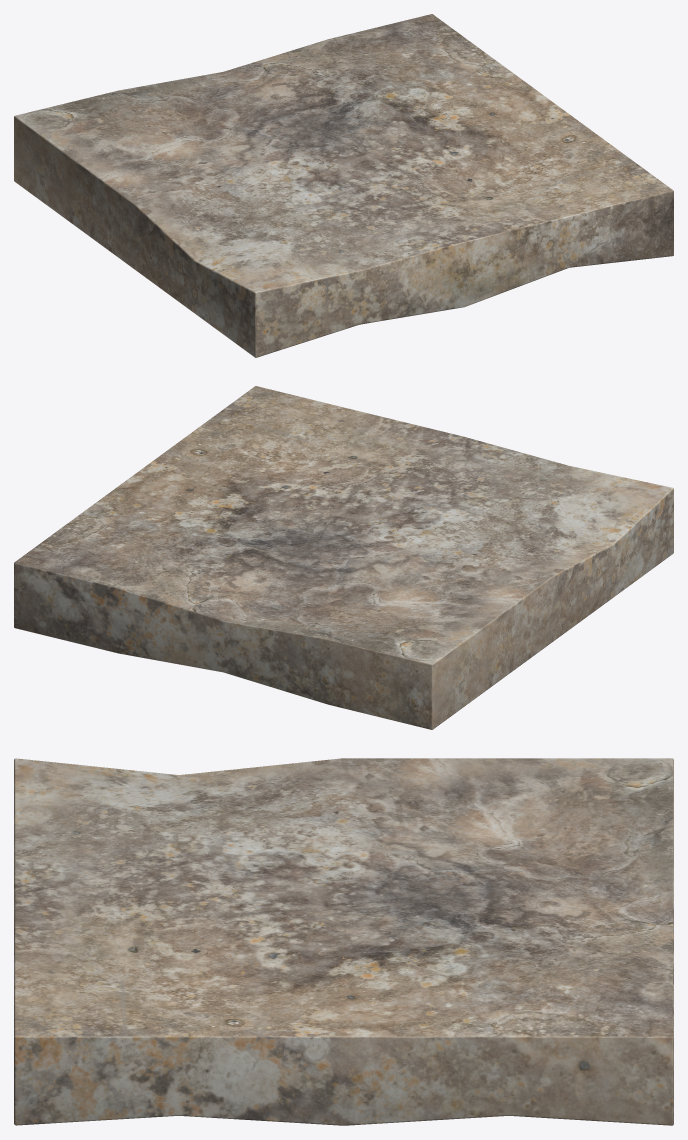
File: Plataforma1.fbx
3 renders of one model, top to bottom at view 1: azimuth 30°, elevation 25°; view 2: azimuth 150°, elevation 25°; view 3: azimuth 270°, elevation 25°, orthographic. The views are drawn at different scales.
Parts seen in each view (by area): view 1: Plataformauno_LOD0; view 2: Plataformauno_LOD0; view 3: Plataformauno_LOD0.
Boxes of the visible parts, box(x1,y1,x2,y2) form: Plataformauno_LOD0: box(14, 14, 673, 357); Plataformauno_LOD0: box(14, 386, 673, 729); Plataformauno_LOD0: box(14, 758, 673, 1125).
Size of what is drawn, in the model's own units: 1845 by 300 by 1845.
1 material, 1 textured.
